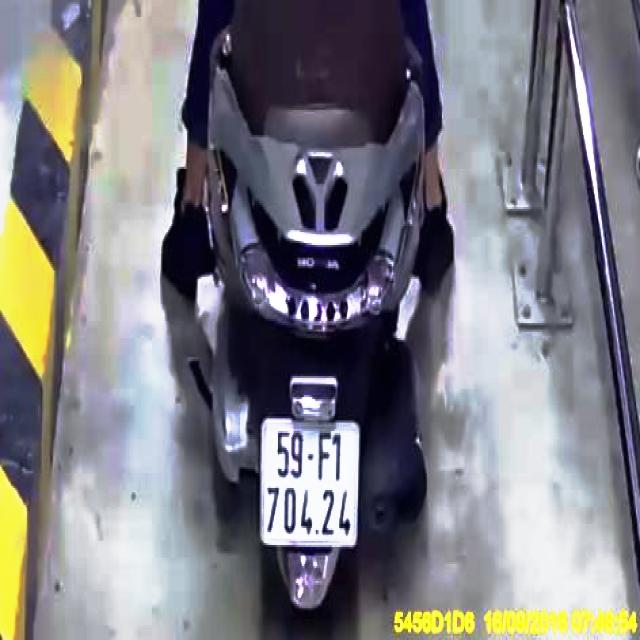license_plate: (263, 420, 361, 546)
